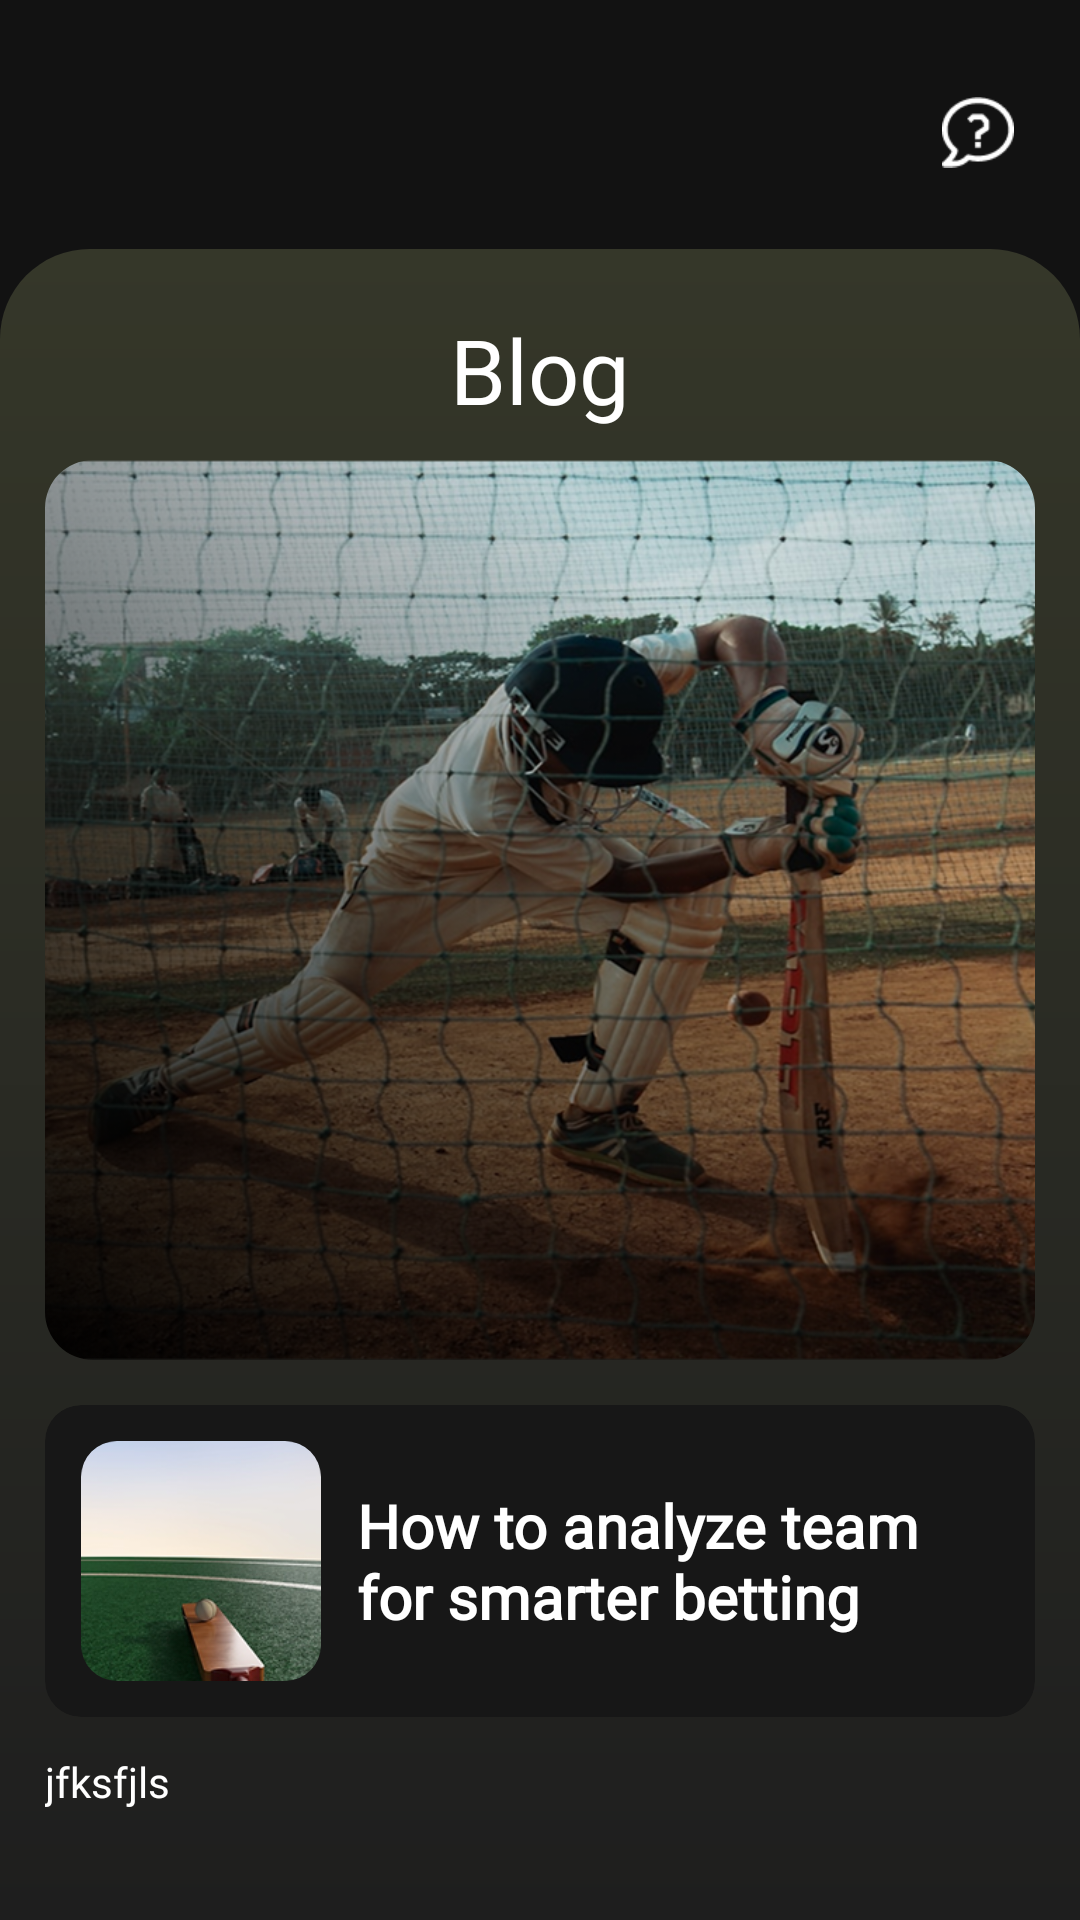

Icons on this 1080 x 1920 Android screen, each with its box as (x1, y1, x2, y2):
tutorial: (942, 97, 1014, 168)
